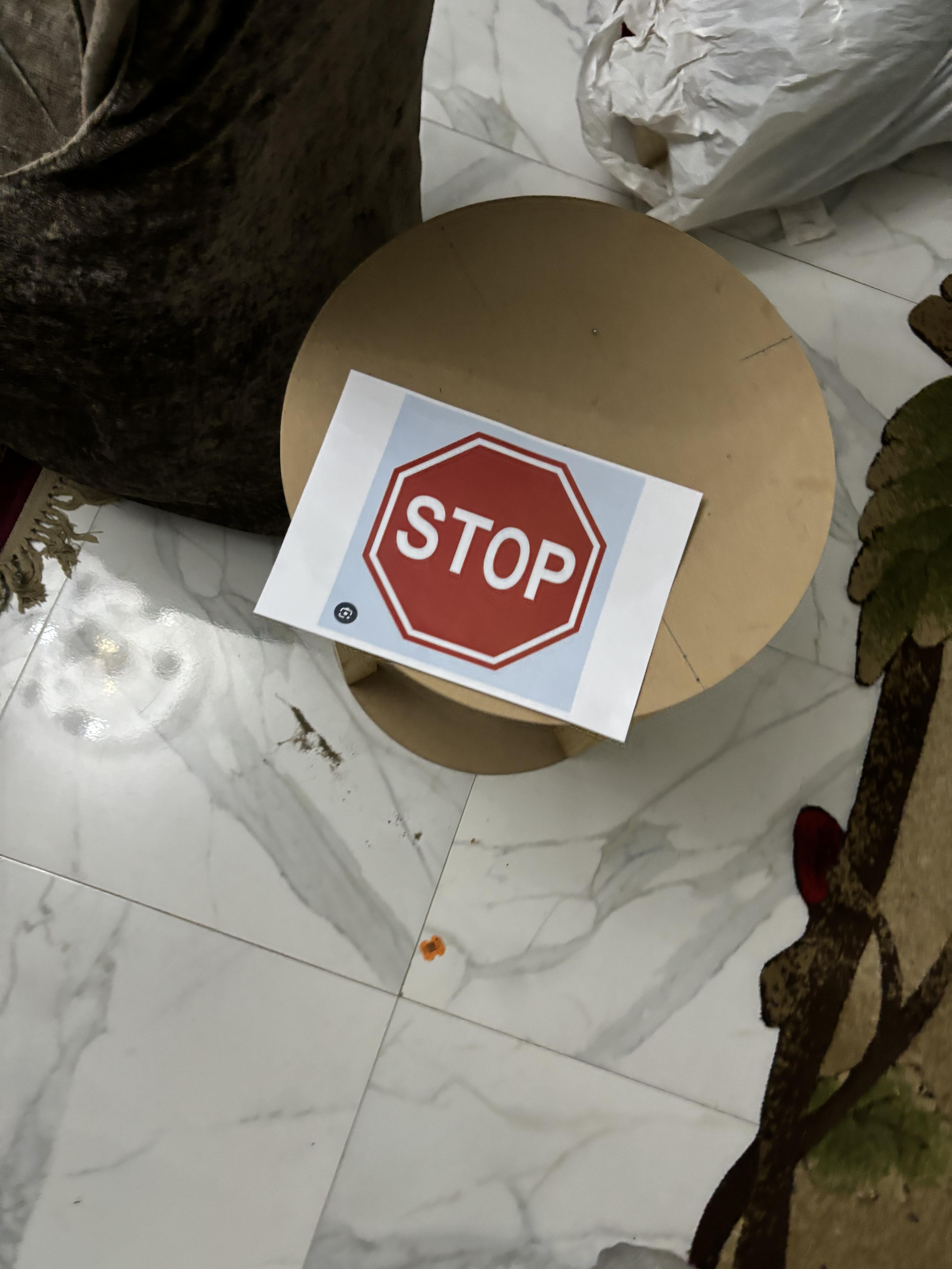Stop: (356, 427, 616, 669)
